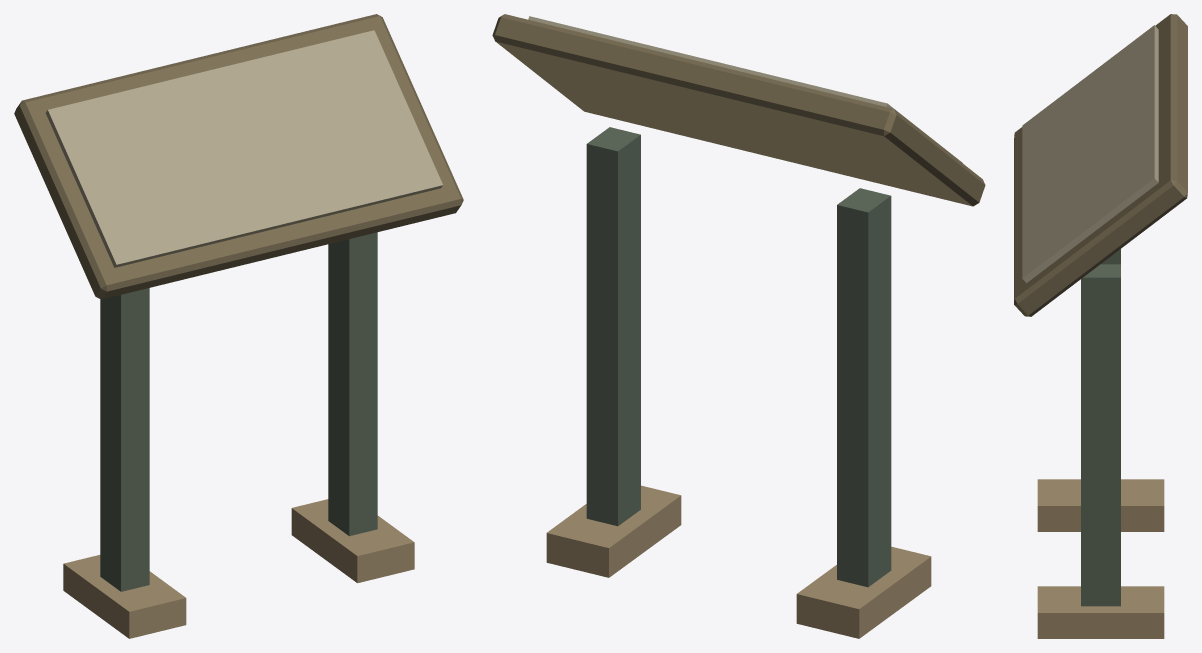
Rendered from alc_ruin_plaque.glb.
The picture shows the model from 3 angles, left to right: view 1: azimuth 30°, elevation 25°; view 2: azimuth 150°, elevation 25°; view 3: azimuth 270°, elevation 25°; orthographic projection. The views are drawn at different scales.
Visible parts, largest first — view 1: alc_ruin_plaque; view 2: alc_ruin_plaque; view 3: alc_ruin_plaque.
Part boxes in pixels (bbox=[...]): alc_ruin_plaque: bbox=[14, 14, 463, 638]; alc_ruin_plaque: bbox=[492, 14, 985, 638]; alc_ruin_plaque: bbox=[1014, 14, 1187, 638].
Size of the model in its own units: 0.7 by 0.911 by 0.3021.
